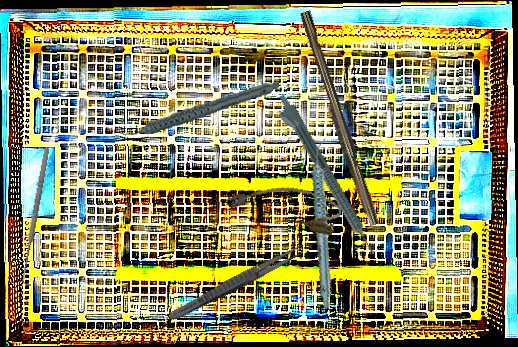Cannula: (225, 174, 344, 237)
Dressing Forceps: (166, 240, 307, 325)
Handpiece: (269, 92, 379, 261), (288, 140, 360, 309), (116, 79, 283, 138)
Hook Surgical: (18, 145, 56, 288)
Scalpel Handle: (293, 10, 383, 228)
